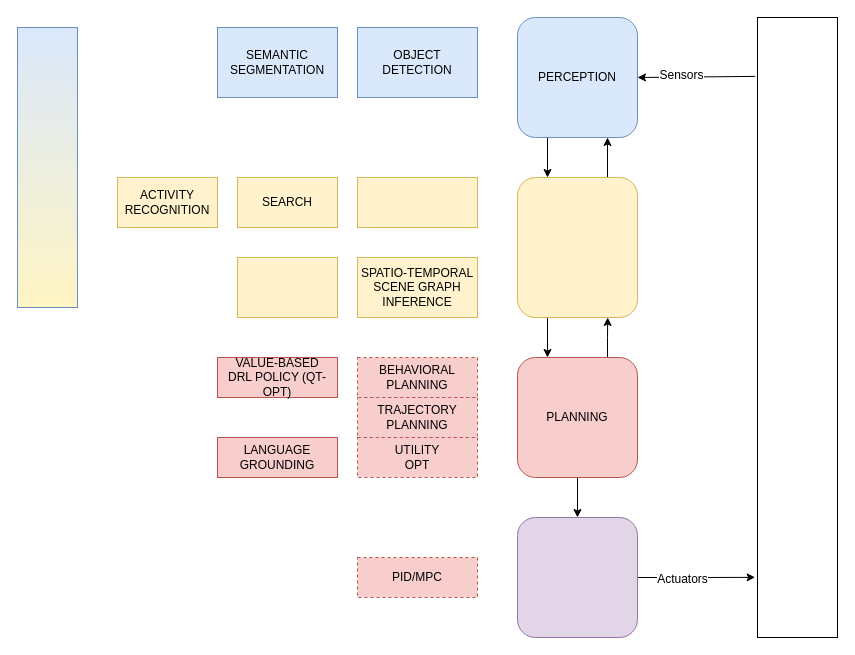
Image size: 855x655. Some labels were removed from this diagram. Each missing label, with the centre of its shape:
CONTROL: point (577, 577)
DOMAIN ADAPTATION: point (47, 167)
ENVIRONMENT: point (797, 327)
LOCALIZATION & MAP: point (287, 287)
PROBABILISTIC REASONING: point (577, 247)
SYMBOLIC SEGMENTATION: point (417, 202)
